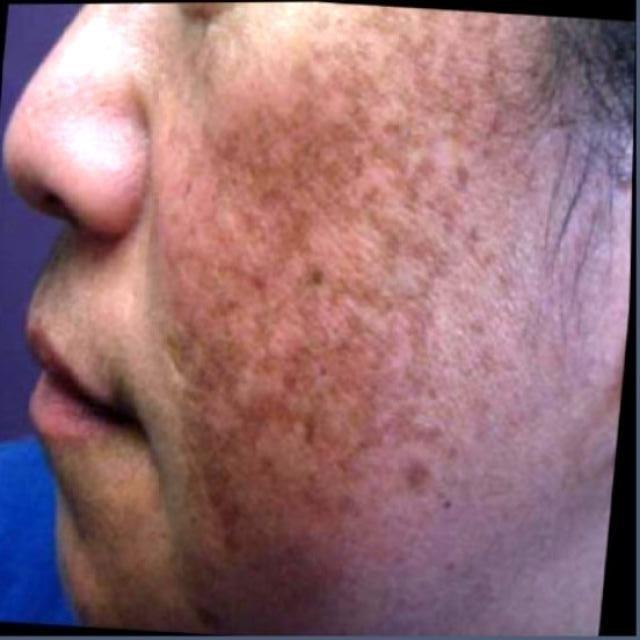Melasma: (177, 14, 560, 598)
